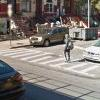Crosswalk: (6, 47, 92, 87)
